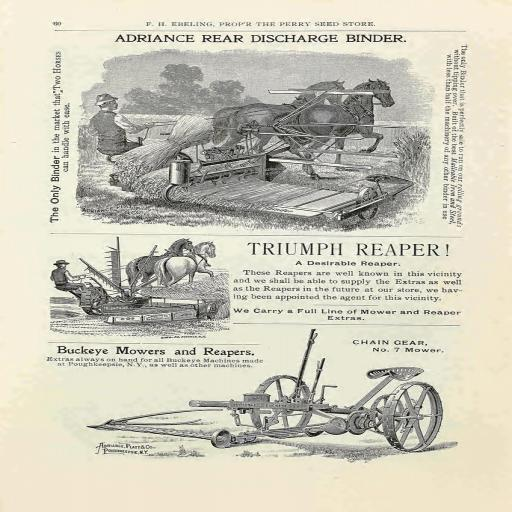horse: (270, 77, 396, 179), (214, 79, 344, 151), (124, 238, 196, 286), (156, 242, 218, 288)
